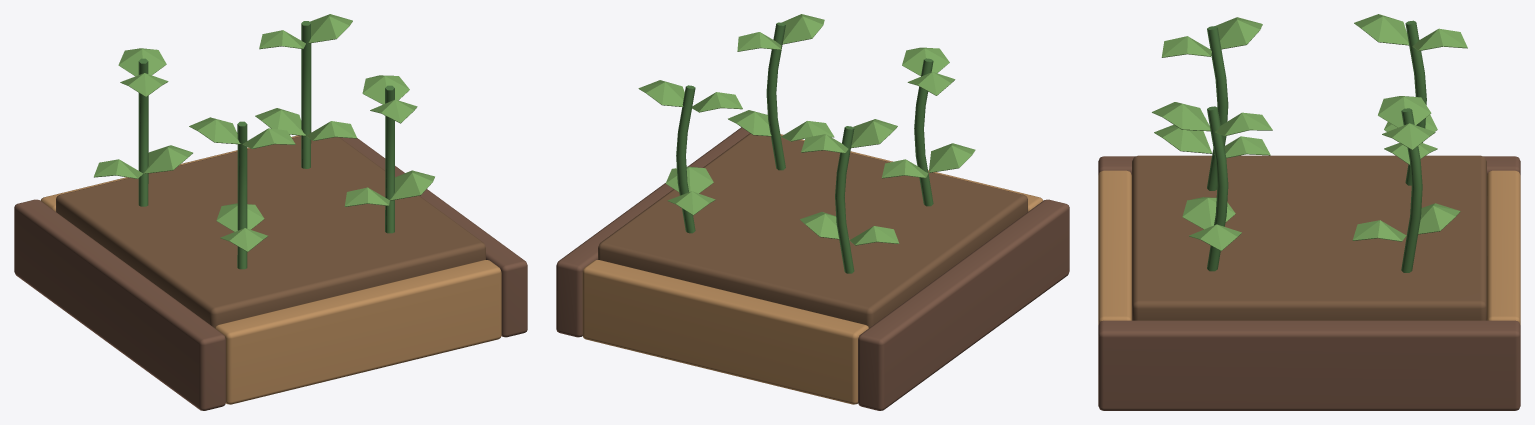
File: garden.herb.melissa-harvested.glb
3 renders of one model, left to right at view 1: azimuth 30°, elevation 25°; view 2: azimuth 150°, elevation 25°; view 3: azimuth 270°, elevation 25°, orthographic. The views are drawn at different scales.
Parts seen in each view (by area): view 1: Cedar raised bed rail; view 2: Cedar raised bed rail; view 3: Cedar raised bed rail.
Boxes of the visible parts, <box> form: Cedar raised bed rail: <box>14,14,527,410</box>; Cedar raised bed rail: <box>556,14,1069,410</box>; Cedar raised bed rail: <box>1098,14,1520,410</box>.
Size of the model in its own units: 1 by 0.6717 by 1.
